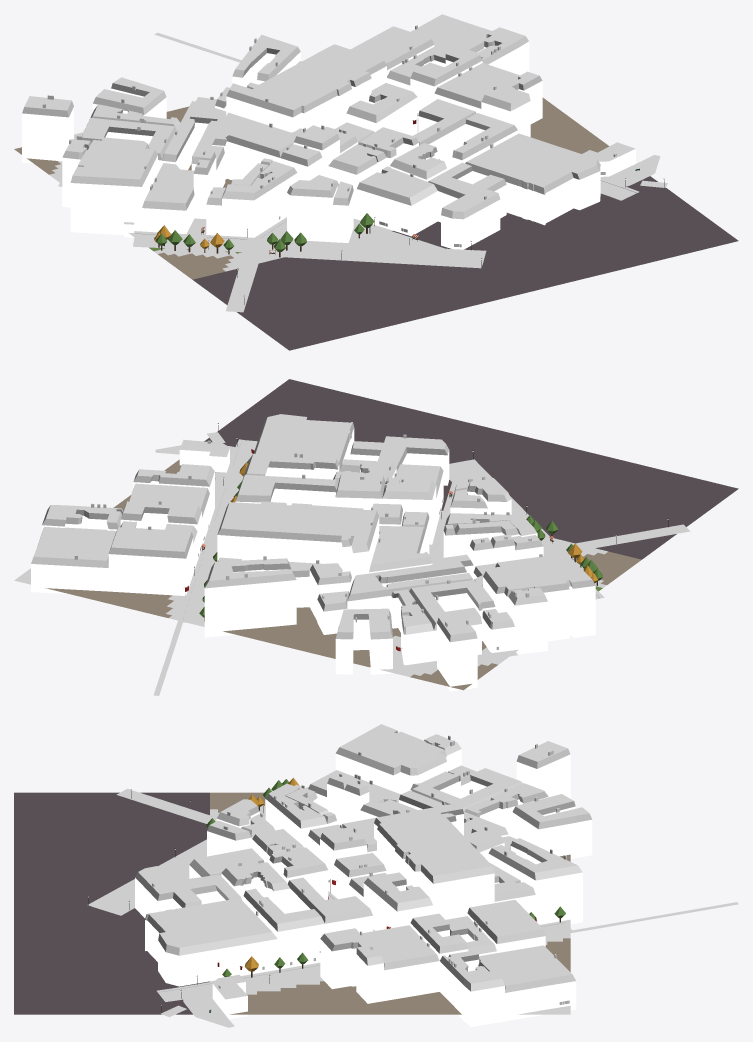
Rendered from zone_A1.glb.
The picture shows the model from 3 angles, top to bottom: view 1: azimuth 30°, elevation 25°; view 2: azimuth 150°, elevation 25°; view 3: azimuth 270°, elevation 25°; orthographic projection.
Visible parts, largest first — view 1: zone_A1_batiments, zone_A1_terrain, zone_A1_sol_NOCOL, zone_A1_decor_NOCOL; view 2: zone_A1_batiments, zone_A1_terrain, zone_A1_sol_NOCOL, zone_A1_decor_NOCOL; view 3: zone_A1_batiments, zone_A1_terrain, zone_A1_sol_NOCOL, zone_A1_decor_NOCOL.
Part boxes in pixels (x1,y1,x2,y2): zone_A1_batiments: [22, 14, 635, 249]; zone_A1_terrain: [14, 97, 738, 350]; zone_A1_sol_NOCOL: [58, 32, 667, 312]; zone_A1_decor_NOCOL: [154, 168, 664, 304]; zone_A1_batiments: [31, 414, 595, 691]; zone_A1_terrain: [14, 379, 738, 690]; zone_A1_sol_NOCOL: [153, 432, 690, 695]; zone_A1_decor_NOCOL: [194, 423, 668, 621]; zone_A1_batiments: [135, 724, 592, 1026]; zone_A1_terrain: [14, 792, 570, 1014]; zone_A1_sol_NOCOL: [88, 786, 738, 1027]; zone_A1_decor_NOCOL: [88, 777, 565, 1012].
Bounding box in the file's own units: 230 × 30.63 × 277.
